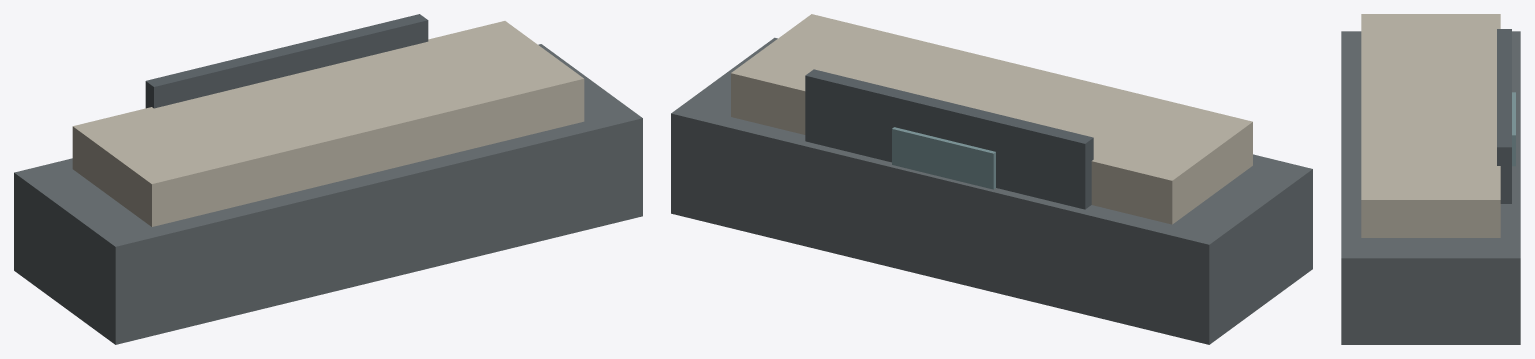
File: iz3_build_defense_spikes_01.glb
The picture shows the model from 3 angles, left to right: view 1: azimuth 30°, elevation 25°; view 2: azimuth 150°, elevation 25°; view 3: azimuth 270°, elevation 25°; orthographic projection. The views are drawn at different scales.
Visible parts, largest first — view 1: base, cabinet, panel; view 2: base, cabinet, panel, display; view 3: cabinet, base, panel, display.
Part boxes in pixels (x1=…): base: x1=14, y1=44, x2=642, y2=344; cabinet: x1=72, y1=21, x2=584, y2=226; panel: x1=145, y1=14, x2=428, y2=108; base: x1=671, y1=37, x2=1312, y2=344; cabinet: x1=731, y1=14, x2=1252, y2=224; panel: x1=805, y1=69, x2=1093, y2=209; display: x1=892, y1=127, x2=995, y2=189; cabinet: x1=1361, y1=14, x2=1500, y2=237; base: x1=1341, y1=31, x2=1520, y2=344; panel: x1=1497, y1=29, x2=1511, y2=203; display: x1=1512, y1=92, x2=1515, y2=166.
Size of the model in its own units: 1.8 by 0.53 by 0.6.
